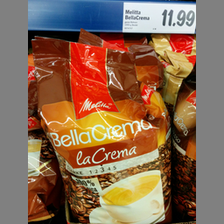coffee: (31, 34, 173, 224)
